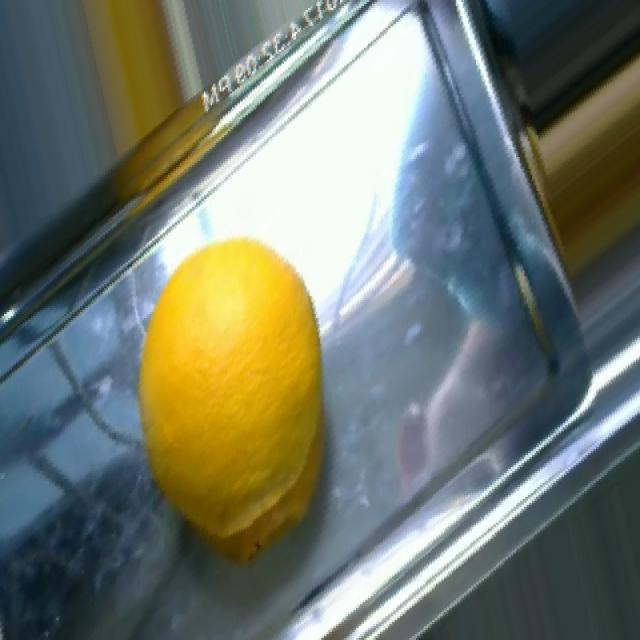Fruit: (127, 225, 344, 574)
